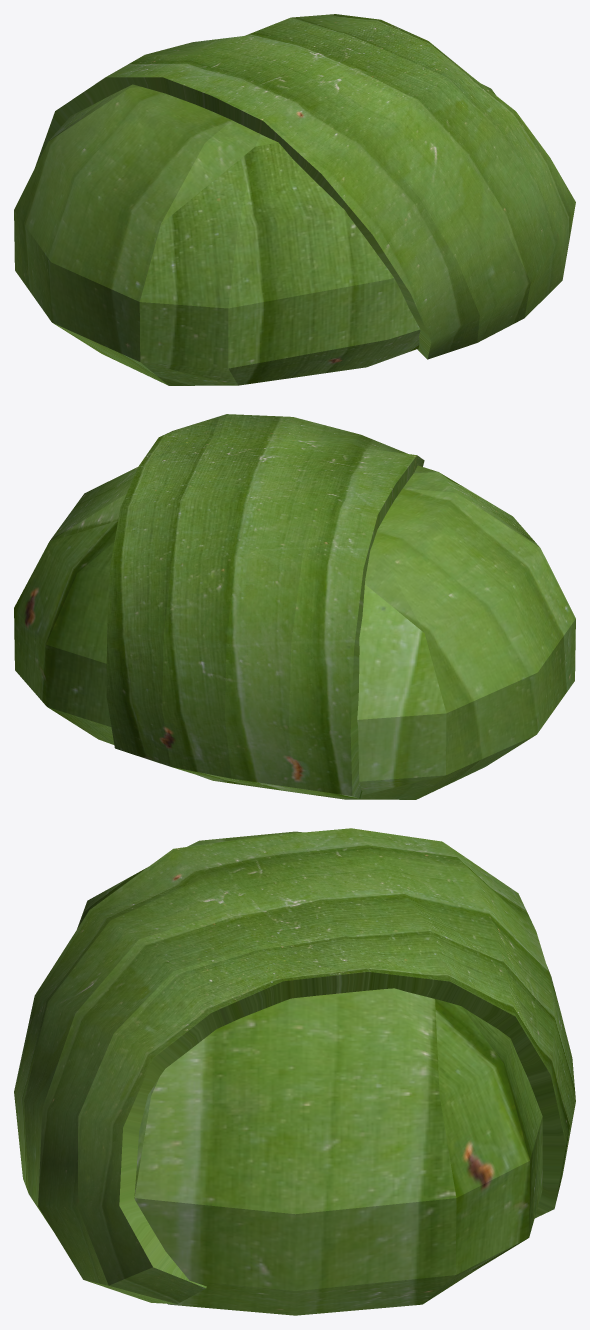
Rendered from _com2.fbx.
The picture shows the model from 3 angles, top to bottom: view 1: azimuth 30°, elevation 25°; view 2: azimuth 150°, elevation 25°; view 3: azimuth 270°, elevation 25°; orthographic projection. The views are drawn at different scales.
Visible parts, largest first — view 1: Circle.003, Plane.003; view 2: Plane.003, Circle.003; view 3: Plane.003, Circle.003.
Part boxes in pixels (x1,y1,x2,y2): Circle.003: (14,84,496,385); Plane.003: (35,14,575,359); Plane.003: (106,414,424,798); Circle.003: (14,465,575,799); Plane.003: (14,828,575,1304); Circle.003: (77,831,542,1315).
Size of the model in its own units: 12.04 by 6.47 by 9.71.
1 material, 1 textured.
